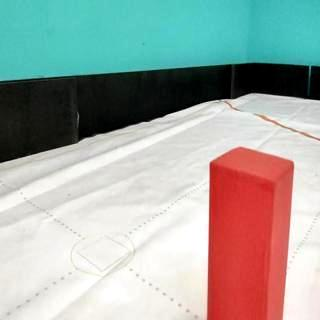redbox: (208, 146, 294, 320)
